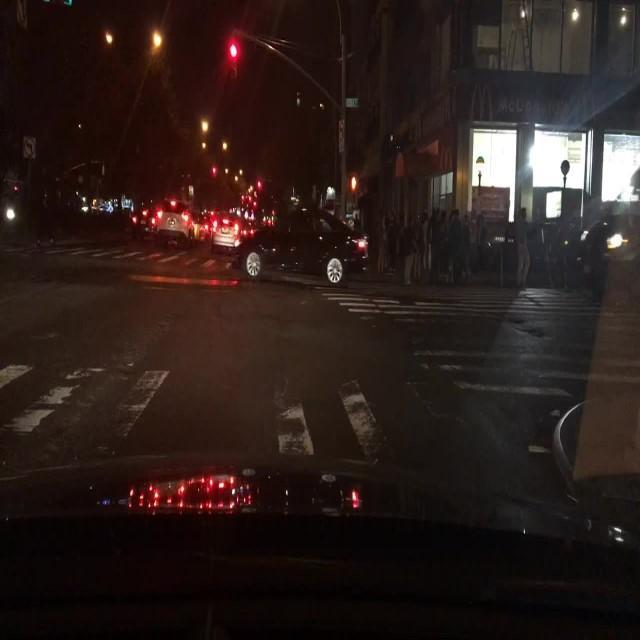normal: (237, 204, 394, 301)
